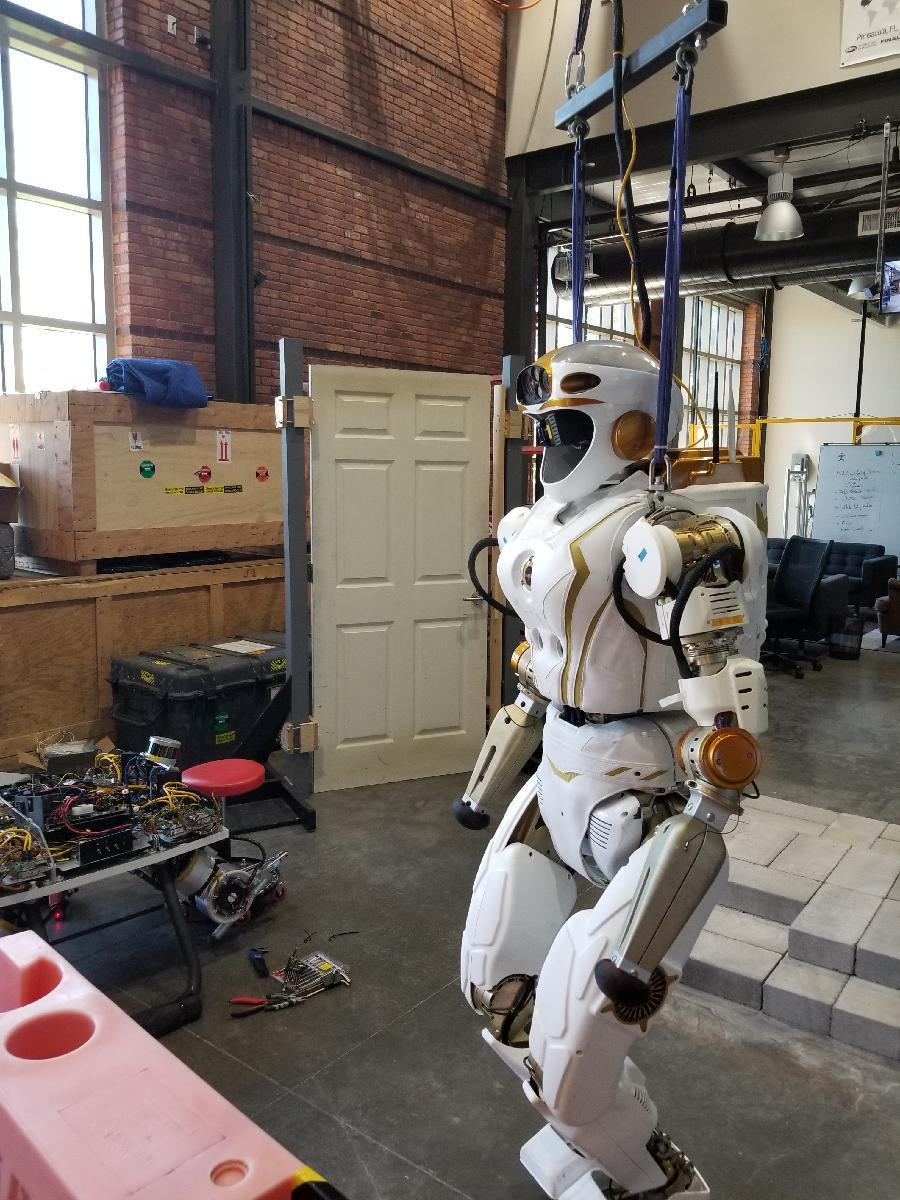door: (308, 358, 503, 791)
handle: (464, 588, 487, 610)
